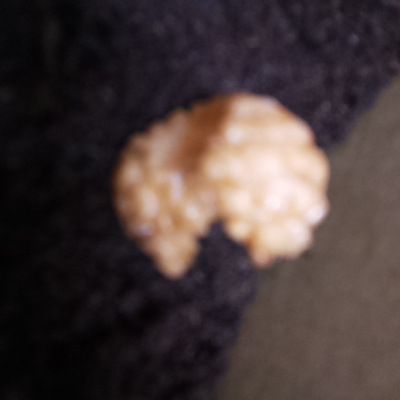eggs: (101, 84, 338, 285)
